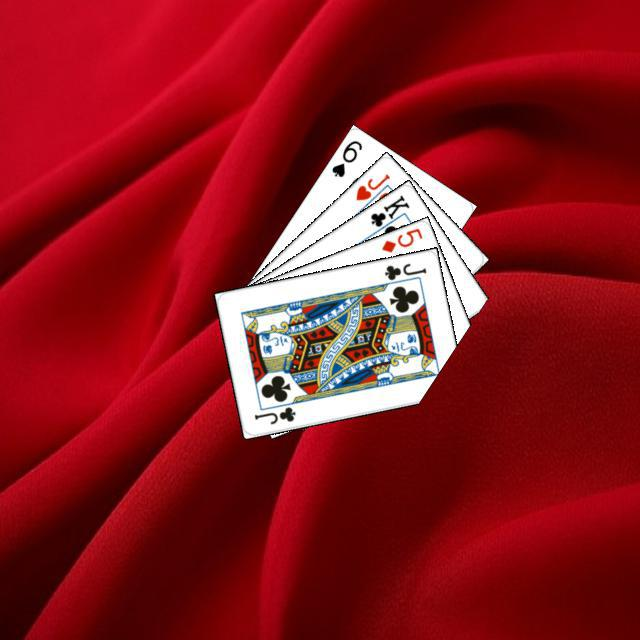5d: (377, 223, 424, 254)
6s: (327, 135, 364, 179)
Jc: (379, 258, 428, 282), (249, 402, 297, 426)
Jh: (351, 169, 392, 202)
Kc: (365, 190, 411, 236)
